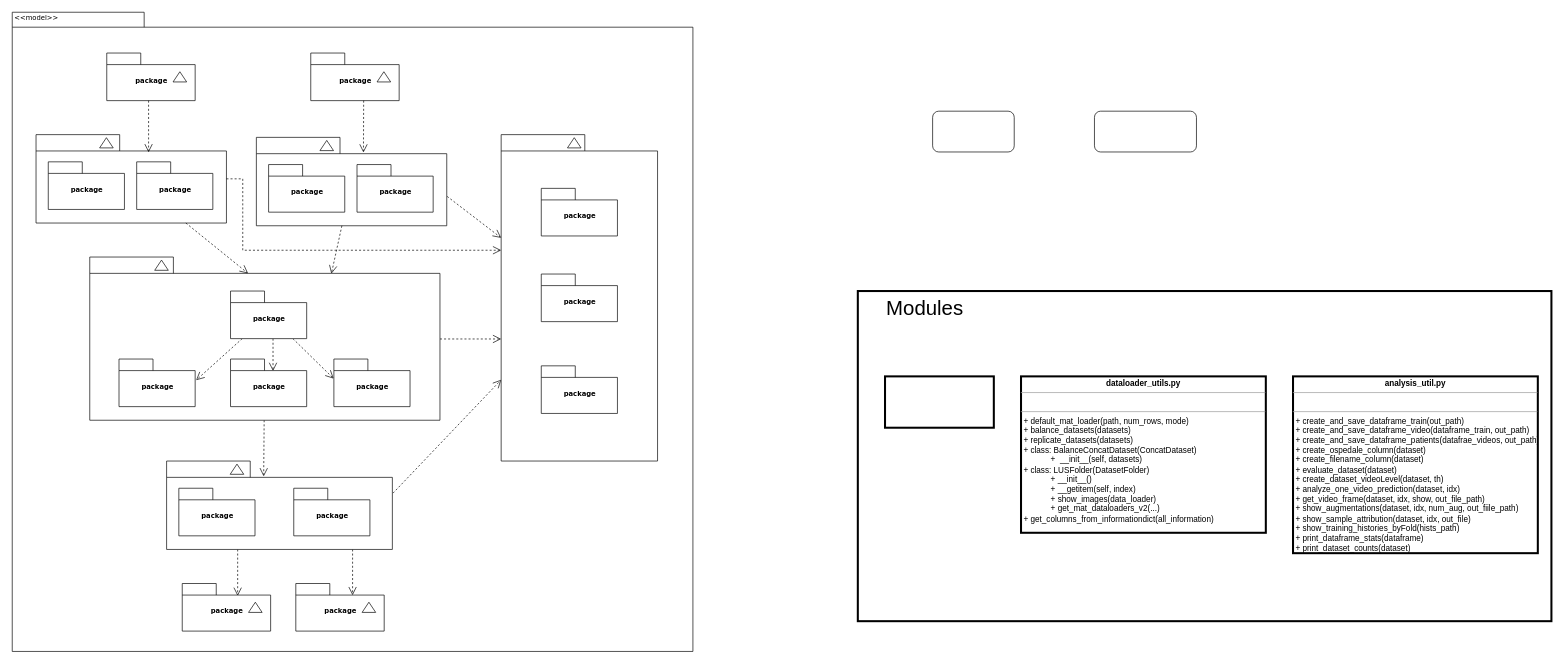
Image size: 1564x663. Some labels were removed from this diagram. Here are the shapes that lost their labels. From the top down, the centre of each, then its label:
At (973,131): "main_static.py".
At (1145,131): "main_evaluation_static.py".
At (939,401): "config.py".
